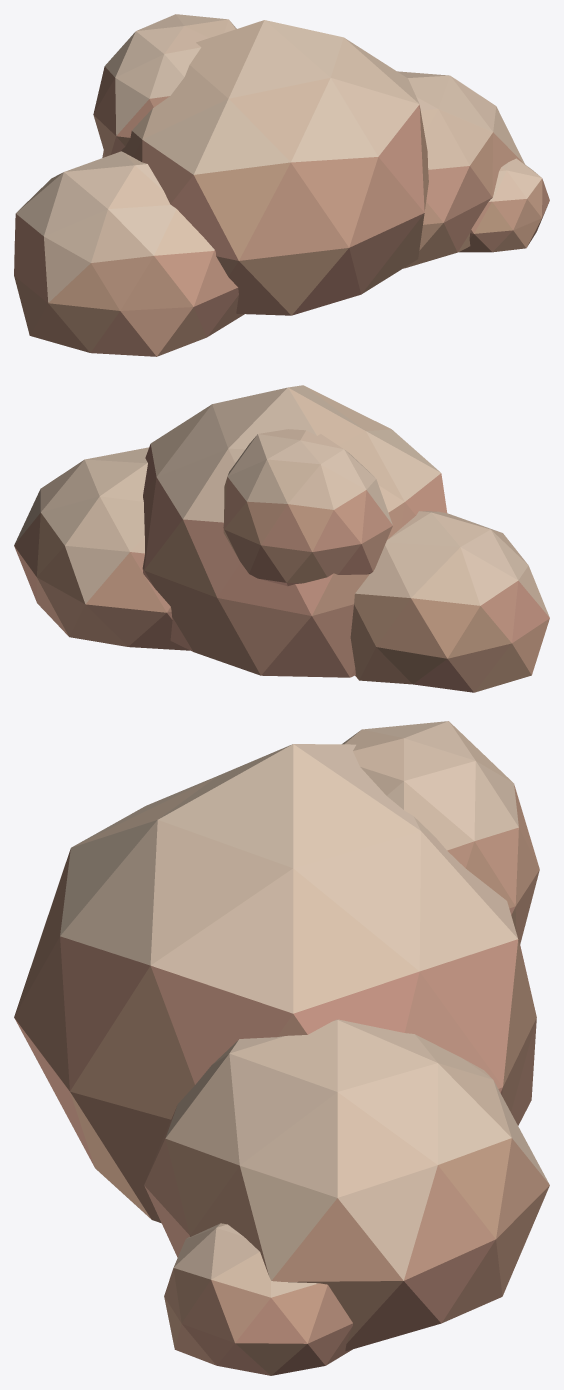
The model's file is cloud_b.glb.
3 renders of one model, top to bottom at view 1: azimuth 30°, elevation 25°; view 2: azimuth 150°, elevation 25°; view 3: azimuth 270°, elevation 25°, orthographic. The views are drawn at different scales.
Visible parts, largest first — view 1: cloud_b; view 2: cloud_b; view 3: cloud_b.
Part boxes in pixels (x1,y1,x2,y2): cloud_b: (14, 14, 549, 356); cloud_b: (14, 385, 549, 692); cloud_b: (14, 721, 549, 1375).
Bounding box in the file's own units: 8.83 × 4.22 × 4.84.
